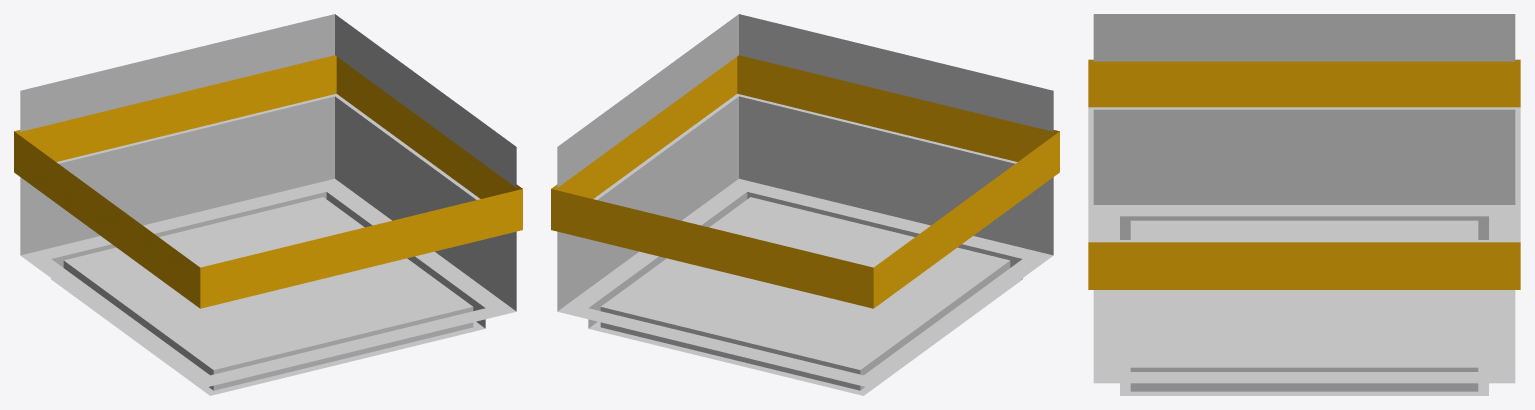
The model's file is standee-sq01.glb.
3 views of the same model, side by side, from view 1: azimuth 30°, elevation 25°; view 2: azimuth 150°, elevation 25°; view 3: azimuth 270°, elevation 25° (orthographic). The views are drawn at different scales.
Visible parts, largest first — view 1: 3DGeom-1, 3DGeom-2; view 2: 3DGeom-1, 3DGeom-2; view 3: 3DGeom-1, 3DGeom-2.
Boxes of the visible parts, bbox=[...] form: 3DGeom-1: bbox=[20, 14, 516, 395]; 3DGeom-2: bbox=[14, 55, 522, 308]; 3DGeom-1: bbox=[557, 14, 1053, 395]; 3DGeom-2: bbox=[551, 55, 1059, 308]; 3DGeom-1: bbox=[1088, 14, 1520, 395]; 3DGeom-2: bbox=[1088, 59, 1520, 289].
Size of the model in its own units: 0.82 by 0.45 by 0.82.
